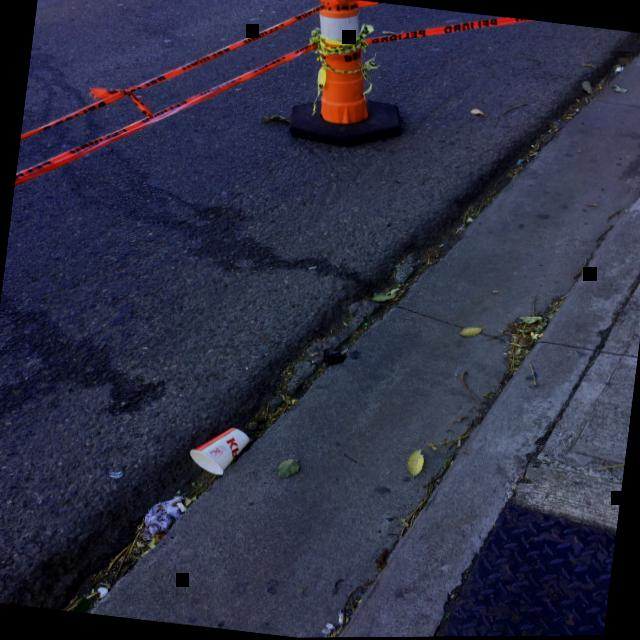Cigarette: (176, 501, 186, 513)
Metal bottle cap: (109, 471, 123, 479)
Normal paper: (141, 495, 185, 541)
Paper cup: (189, 427, 250, 475)
